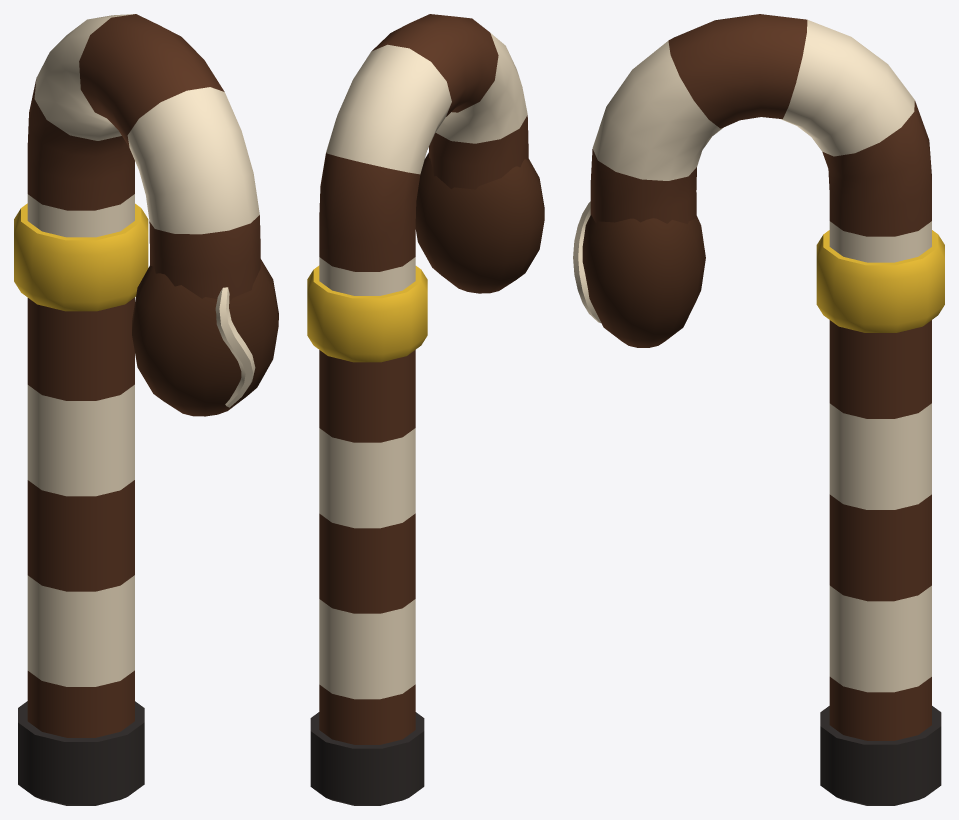
Rendered from cane_coffee.gltf.
The picture shows the model from 3 angles, left to right: view 1: azimuth 30°, elevation 25°; view 2: azimuth 150°, elevation 25°; view 3: azimuth 270°, elevation 25°; orthographic projection. The views are drawn at different scales.
Visible parts, largest first — view 1: cane_coffee; view 2: cane_coffee; view 3: cane_coffee.
Boxes of the visible parts, x1,y1,x2,y2 form: cane_coffee: (14,14,278,805); cane_coffee: (307,14,544,805); cane_coffee: (573,14,944,805).
Bounding box in the file's own units: 0.234 × 1.35 × 0.5955.
